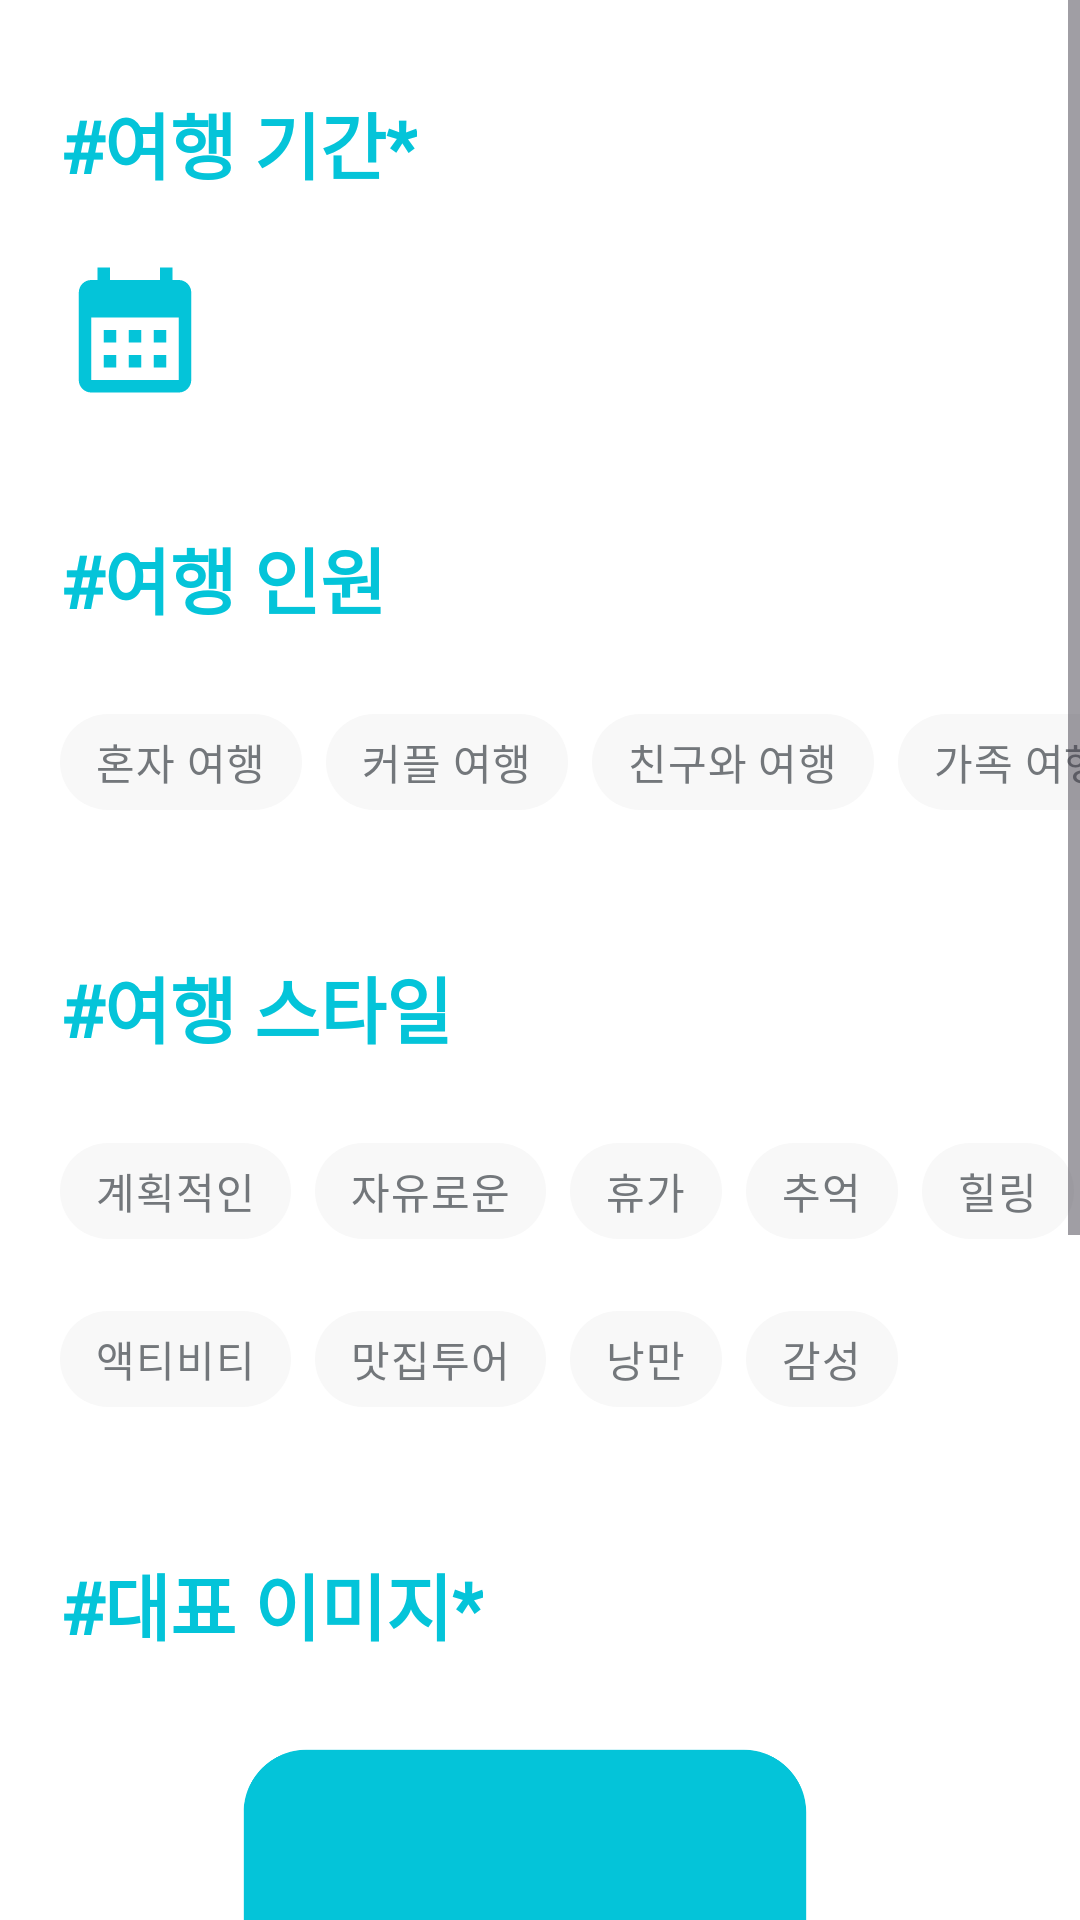

Icon bounding boxes for this 1080x1920 phone screenshot, format (x1, y1, x2, y2):
calendar month: (78, 267, 192, 393)
